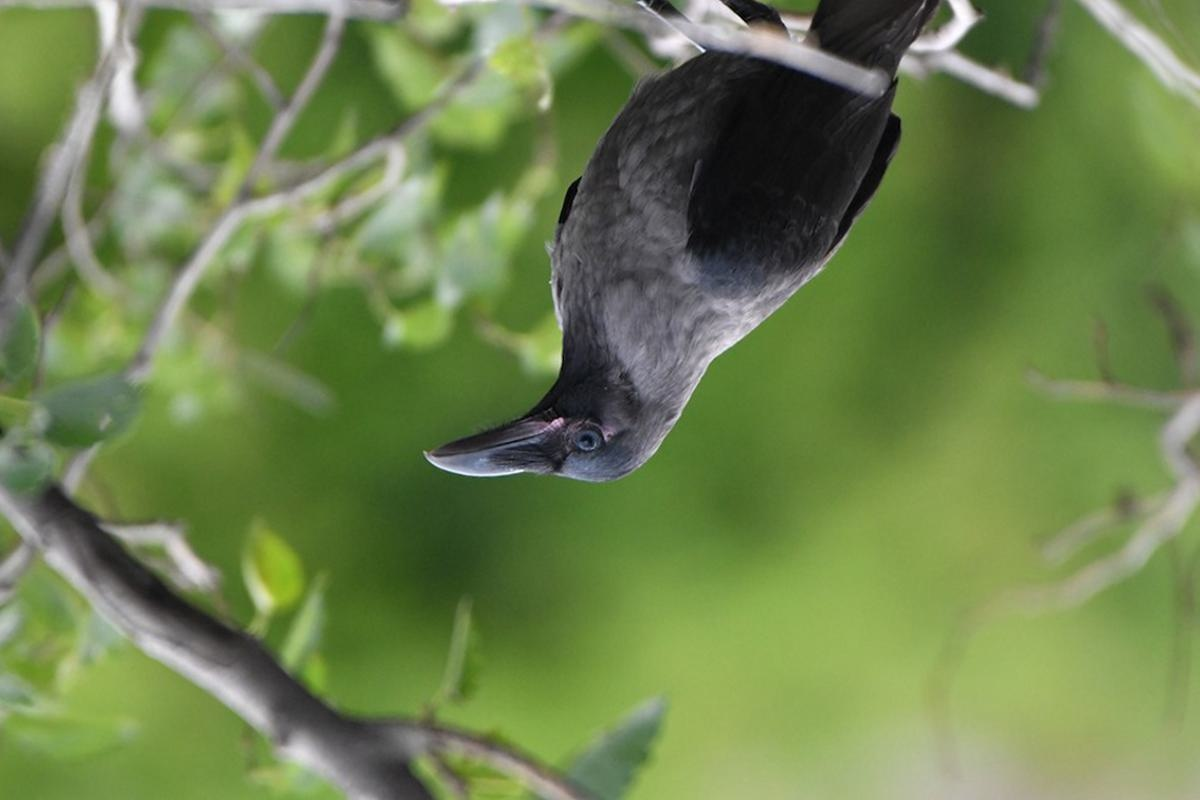crow: (410, 1, 934, 518)
